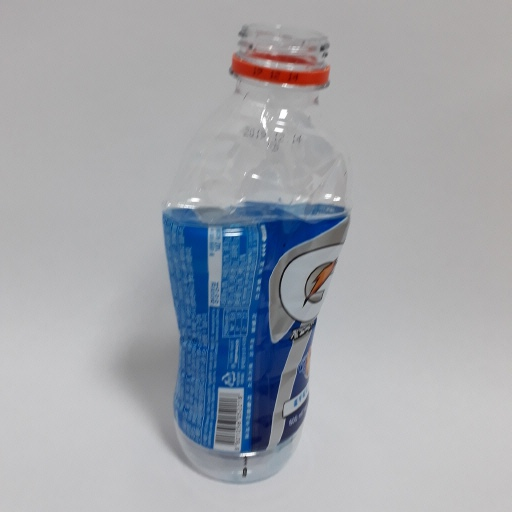Plastic_0: (161, 22, 353, 480)
